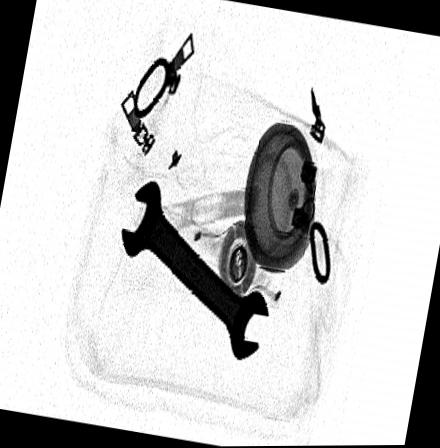Wrench: (121, 181, 267, 363)
